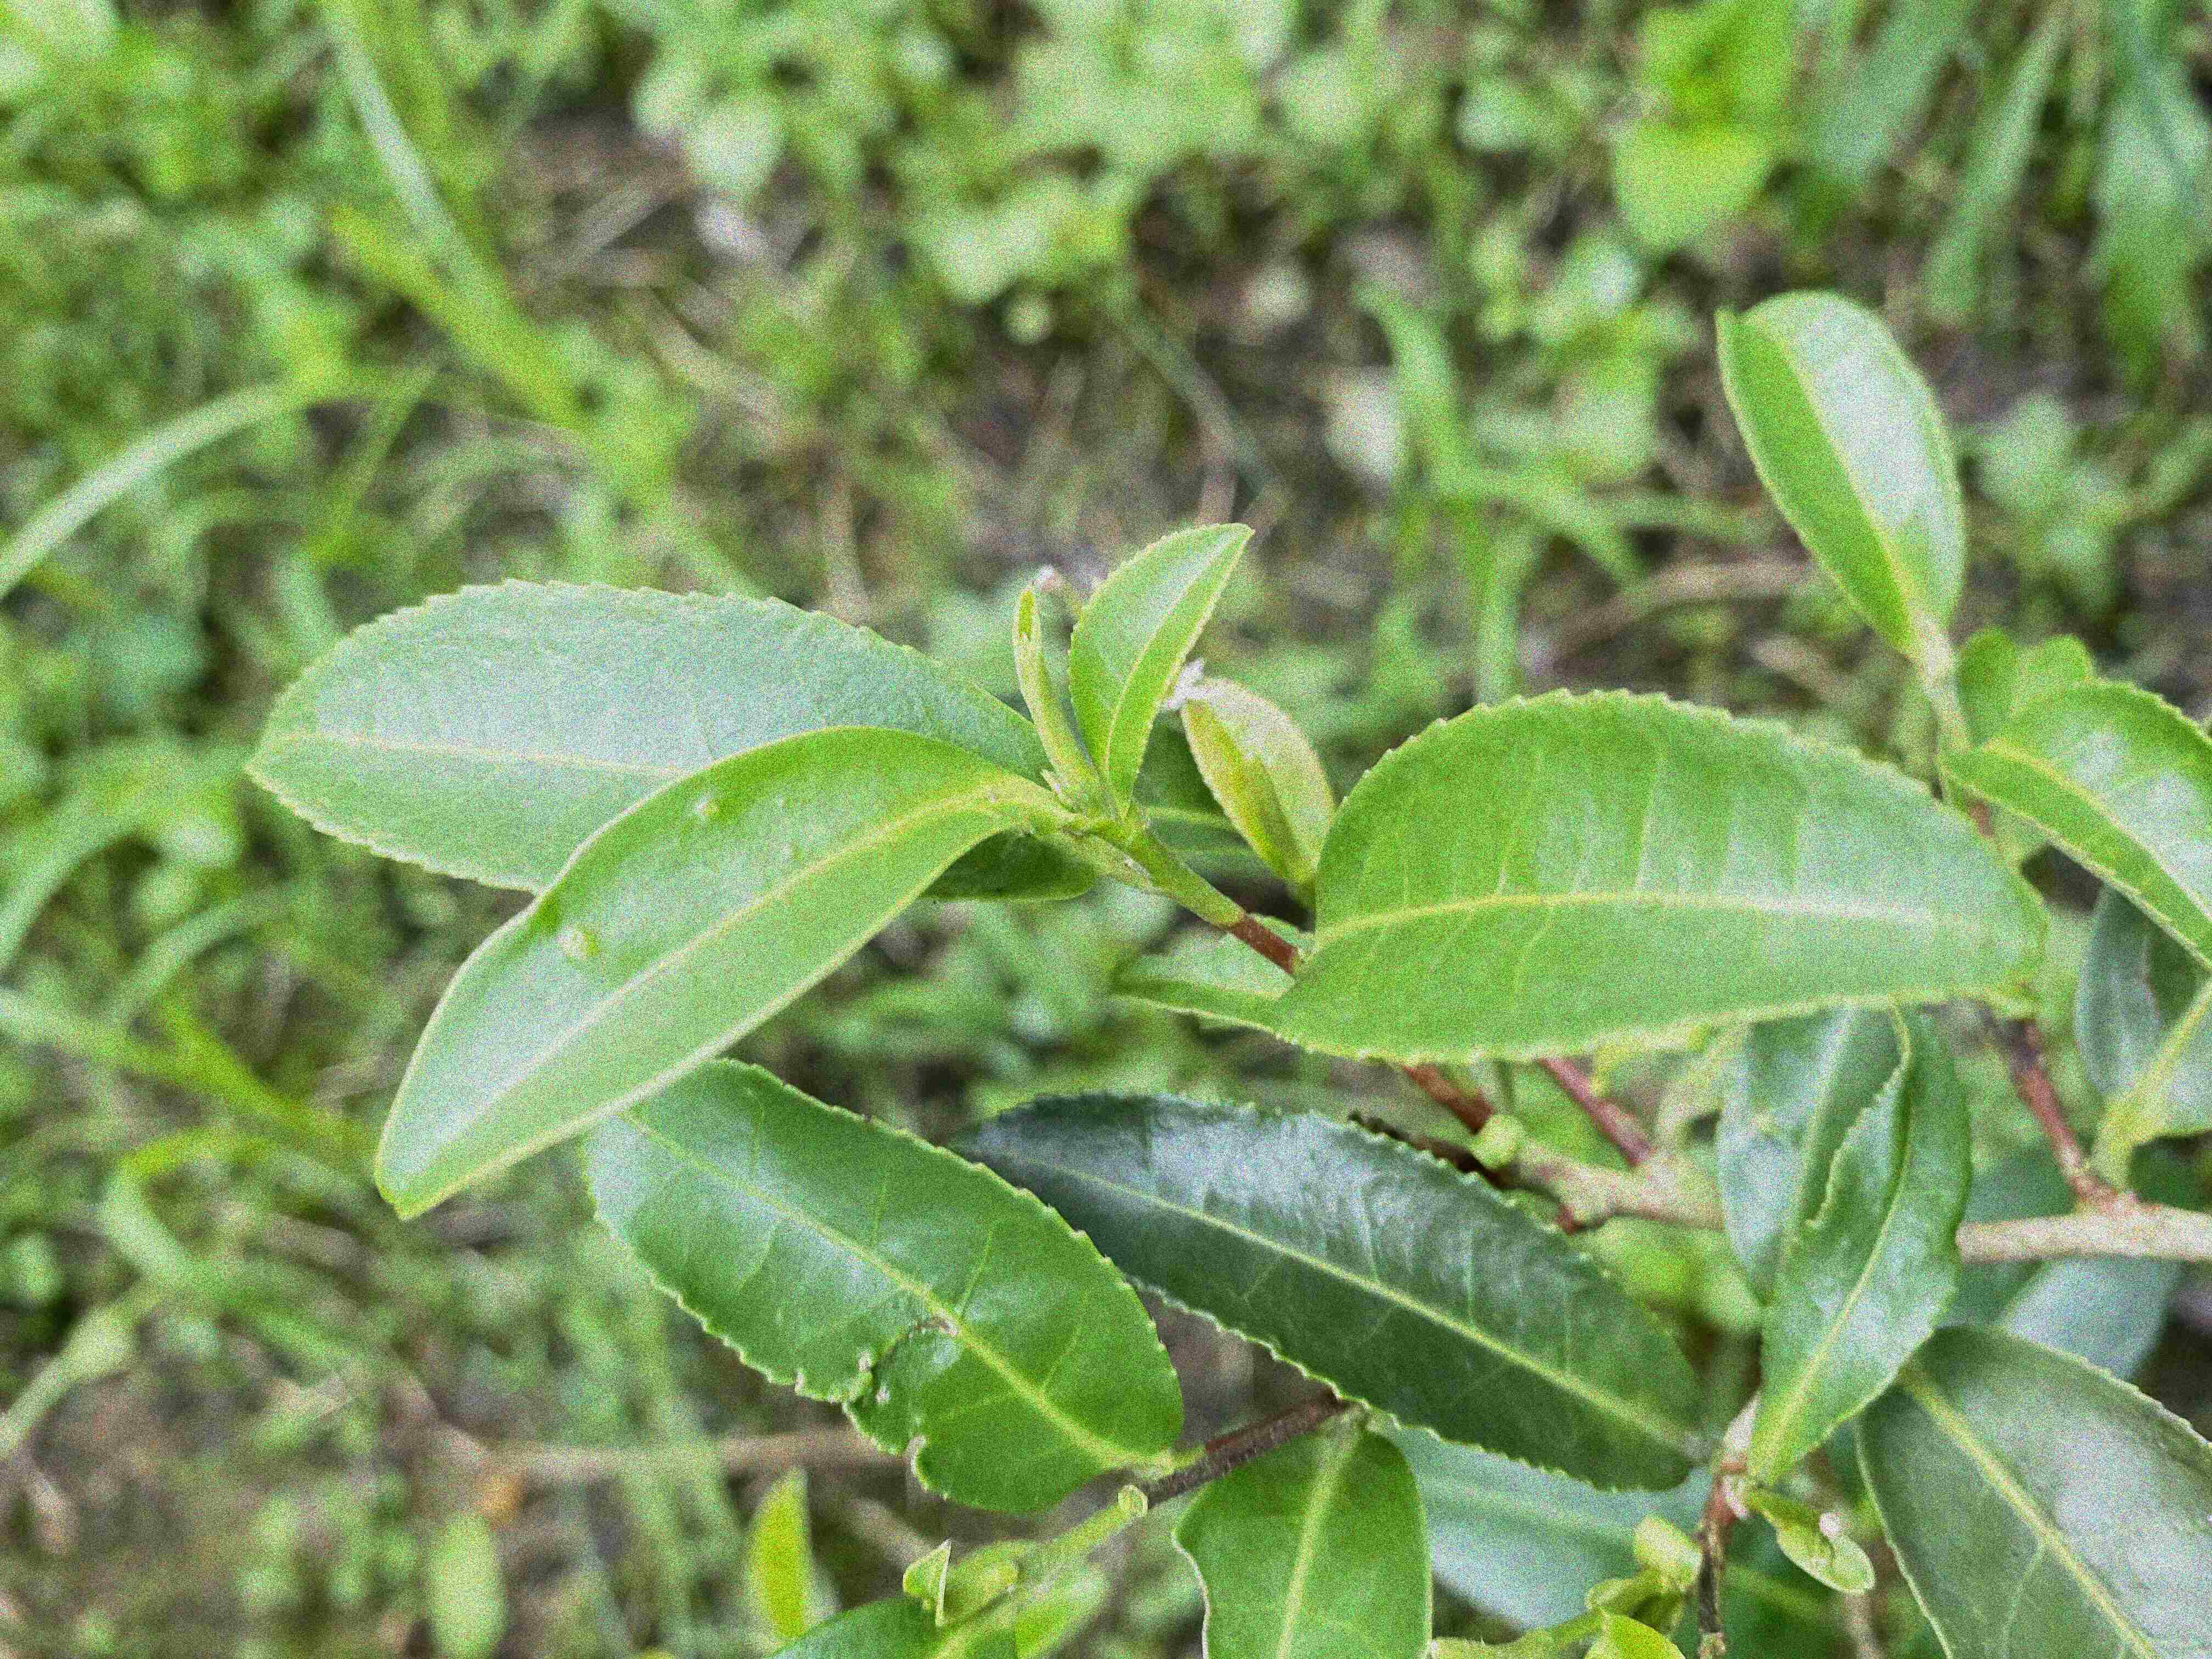chihuo_low: (1160, 1427, 1433, 1656)
healthy: (374, 730, 1024, 1225), (1266, 683, 2047, 1068), (242, 580, 1113, 894), (1111, 1087, 1723, 1495), (1857, 1319, 2210, 1657), (1749, 1004, 1980, 1483), (1710, 282, 1959, 657), (1937, 676, 2212, 965), (1069, 521, 1251, 819)
